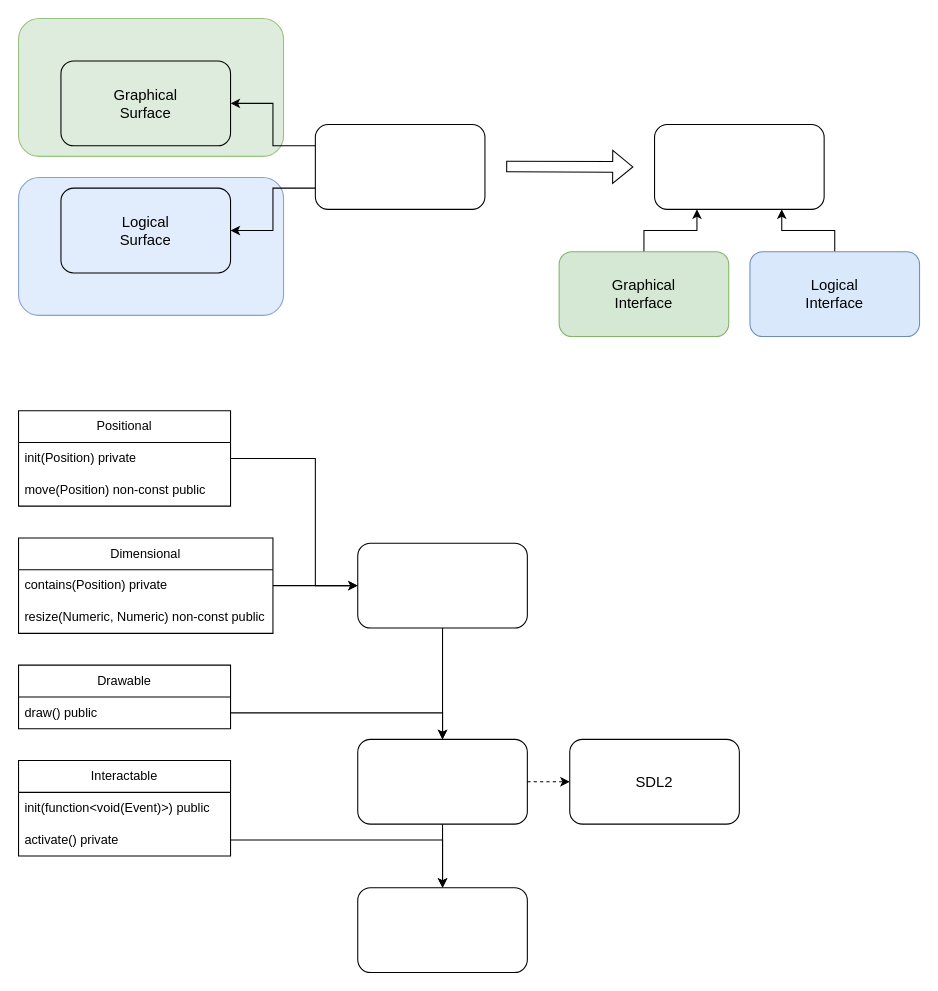
The diagram is 938 pixels wide and 991 high, and some of its shapes have lost their labels. The centre of each missing label's shape, as x and y in pixels:
Figure: point 442,585
Surface: point 399,166
Texture: point 442,781
Widget const Entity non-const: point 442,930
Widget/Entiny: point 738,166
